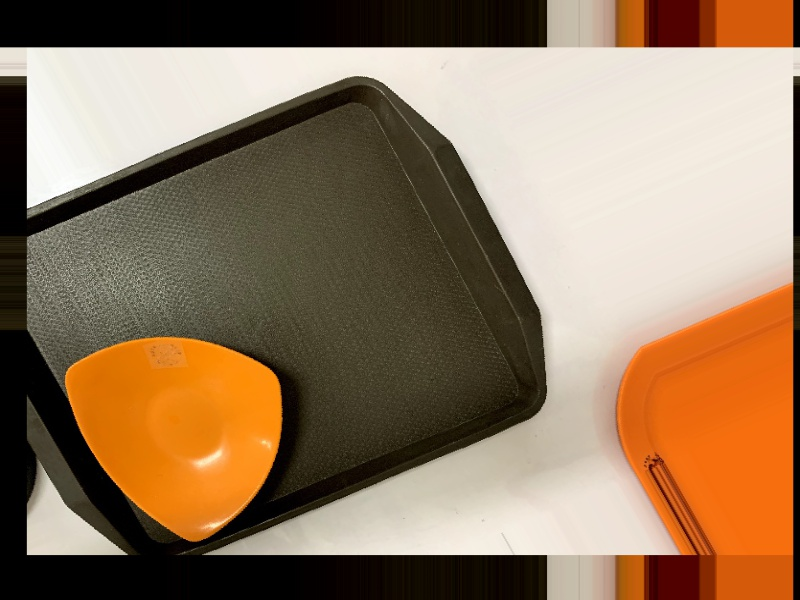dish11: (42, 288, 347, 566)
